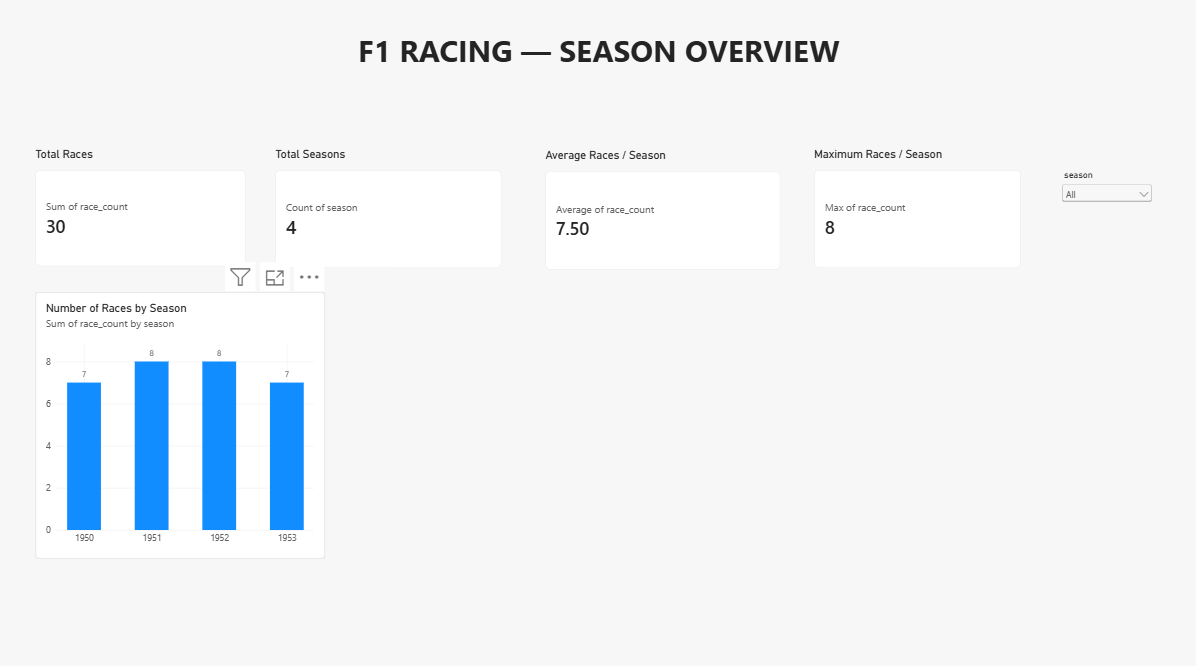

The page's visual inventory and layout, read from the dashboard file:
{"tool":"powerbi","page":{"name":"Season Overview","canvas":[1920,1080],"ordinal":0},"visuals":[{"type":"cardVisual","title":"Total Races","fields":{"Data":["Sum(races_per_season.race_count)"]},"box":[58.2,240.3,337.3,191],"z":0},{"type":"cardVisual","title":"Total Seasons","fields":{"Data":["Count(races_per_season.season)"]},"box":[441.8,240.3,362.7,194],"z":1000},{"type":"cardVisual","title":"Average Races / Season","fields":{"Data":["Avg(races_per_season.race_count)"]},"box":[873.1,241.8,376.1,195.5],"z":2000},{"type":"cardVisual","title":"Maximum Races / Season","fields":{"Data":["Max(races_per_season.race_count)"]},"box":[1304.5,240.3,331.3,194],"z":3000},{"type":"clusteredColumnChart","title":"Number of Races by Season","fields":{"Category":["races_per_season.season"],"Y":["Sum(races_per_season.race_count)"]},"box":[58.2,471.6,463,426],"z":4000},{"type":"slicer","fields":{"Values":["races_per_season.season"]},"box":[1695,275,153.4,127.4],"z":5000},{"type":"textbox","box":[0,52.2,1919.4,82.1],"z":6000}]}

Visuals, with their boxes in screenshot pixels (x1, y1, x2, y2), scaled from the page's 1920x1080 canvas onto the 1196x666 screenshot:
"Total Races" cardVisual: <box>36,148,246,266</box>
"Total Seasons" cardVisual: <box>275,148,501,268</box>
"Average Races / Season" cardVisual: <box>544,149,778,270</box>
"Maximum Races / Season" cardVisual: <box>813,148,1019,268</box>
"Number of Races by Season" clusteredColumnChart: <box>36,291,325,554</box>
slicer - races_per_season.season: <box>1056,170,1151,248</box>
textbox: <box>0,32,1195,83</box>
